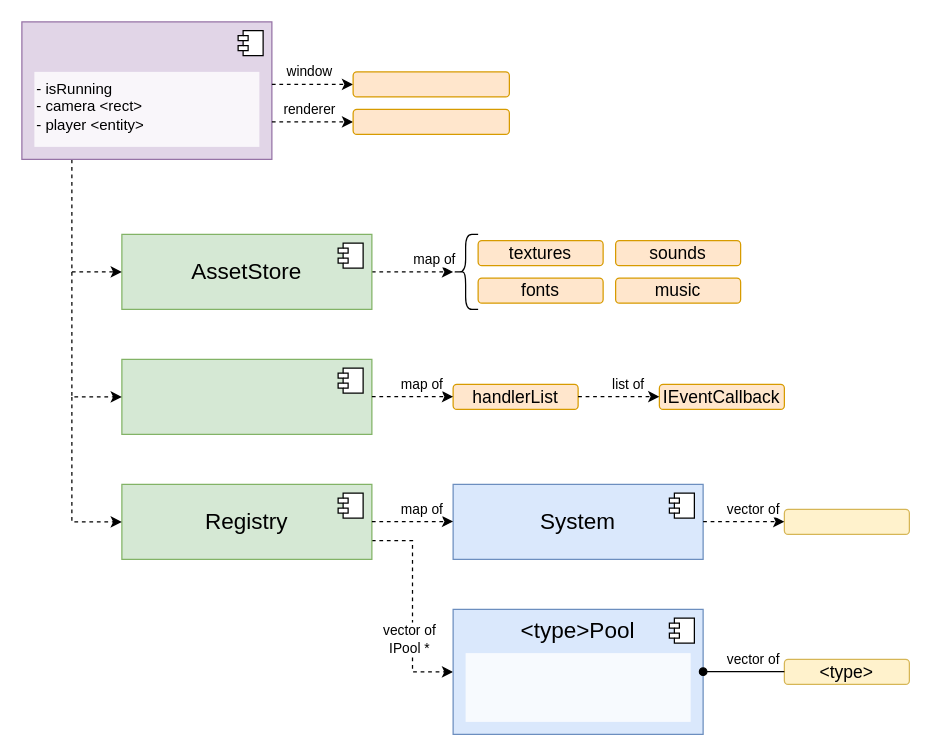
Some shapes in this 931 by 756 pixel diagram are drawn without their labels. The box of each missing label's shape, as (x1, y1, x2, y2) in pixels:
- size - entityIdToIndex <map> - indexToEntityId <map>: (465, 652, 690, 721)
Entity: (783, 508, 909, 534)
EventBus: (121, 358, 372, 434)
Game: (21, 21, 272, 159)
SDL_Renderer: (352, 108, 509, 134)
SDL_Window: (352, 71, 509, 97)
